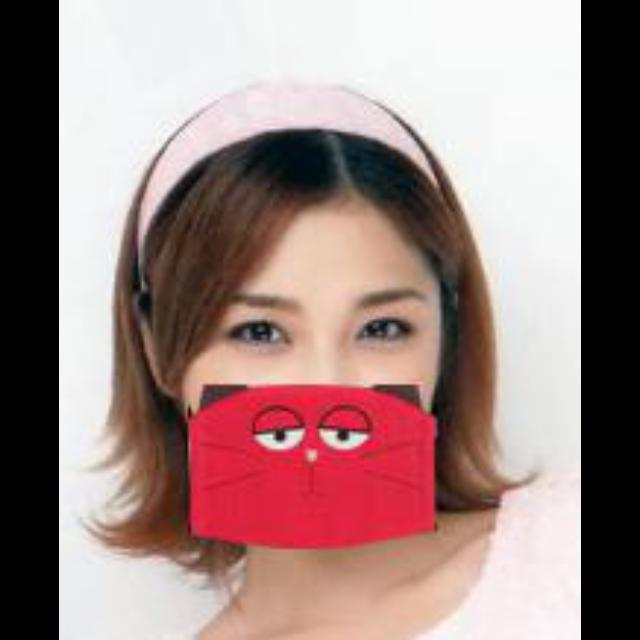suspicion: (114, 100, 526, 498)
